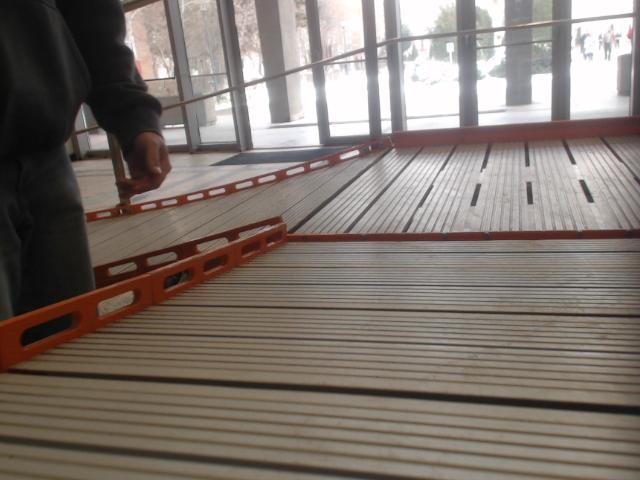rampDown: (0, 126, 639, 479)
